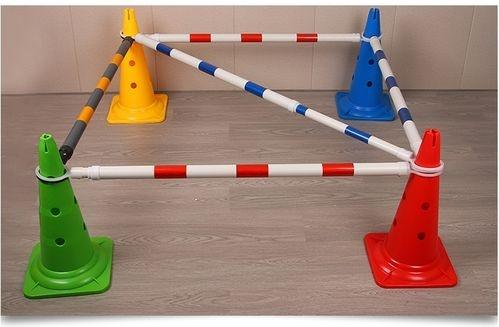cone_barrel: (370, 123, 460, 281), (23, 130, 107, 288), (337, 8, 398, 122), (106, 8, 164, 121)
